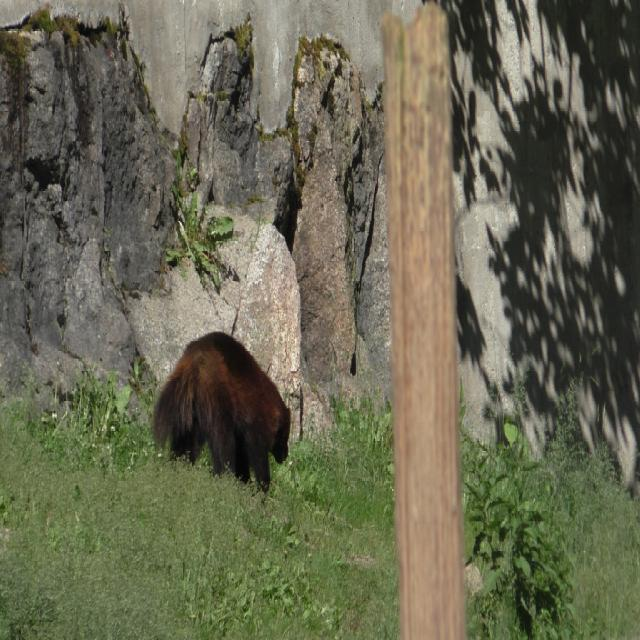Bear: (152, 332, 294, 494)
